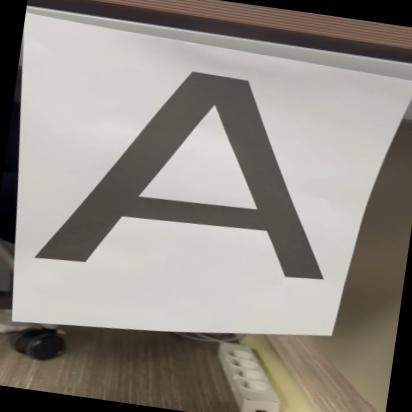seat: (18, 35, 362, 304)
